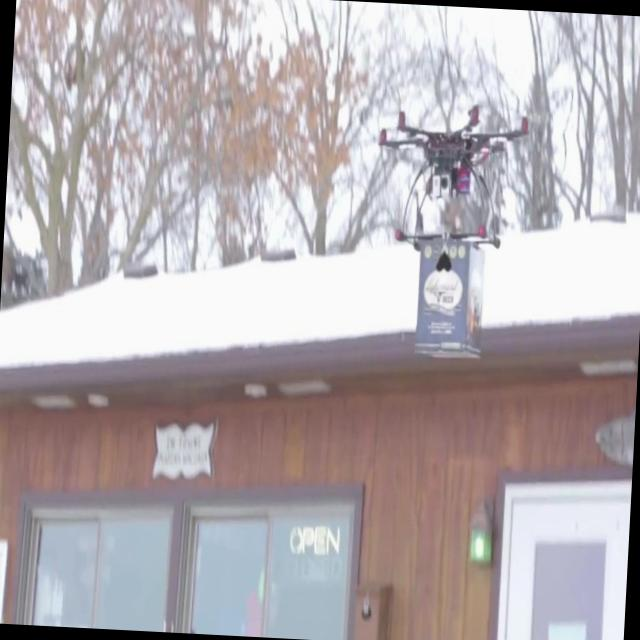drone: (372, 95, 532, 248)
